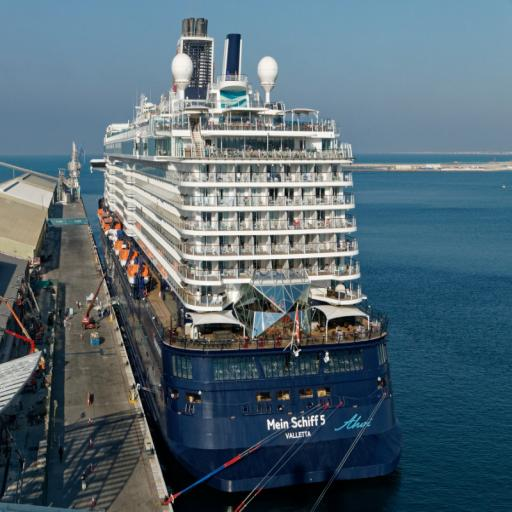cruises: (97, 15, 408, 507)
